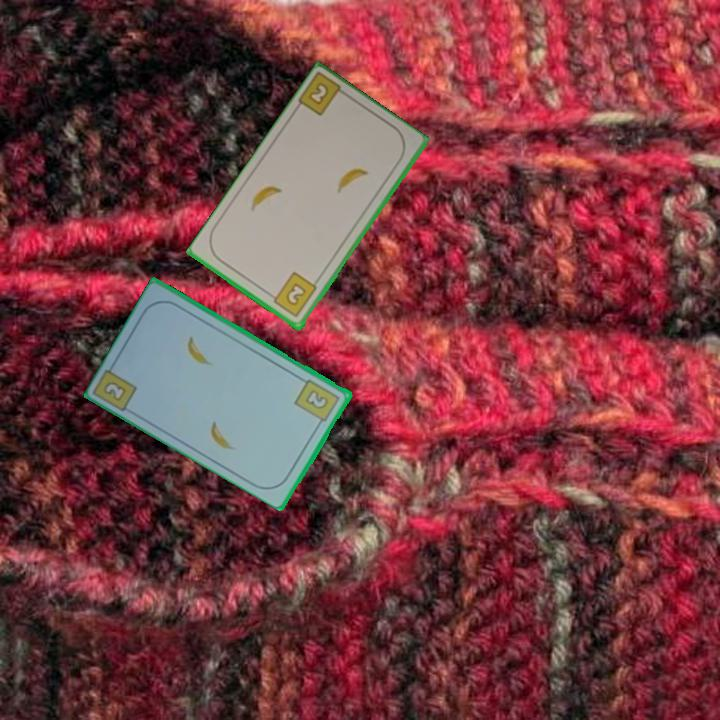2b: (266, 269, 320, 320), (292, 375, 343, 429), (295, 71, 352, 119), (100, 378, 129, 404)
